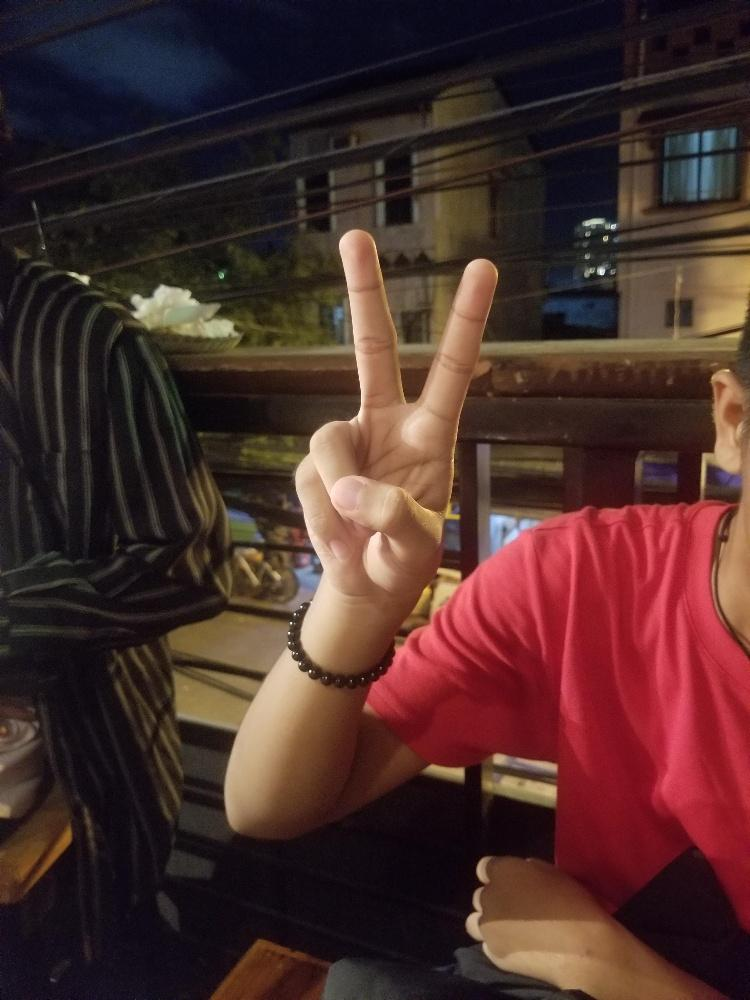v: (291, 227, 498, 593)
